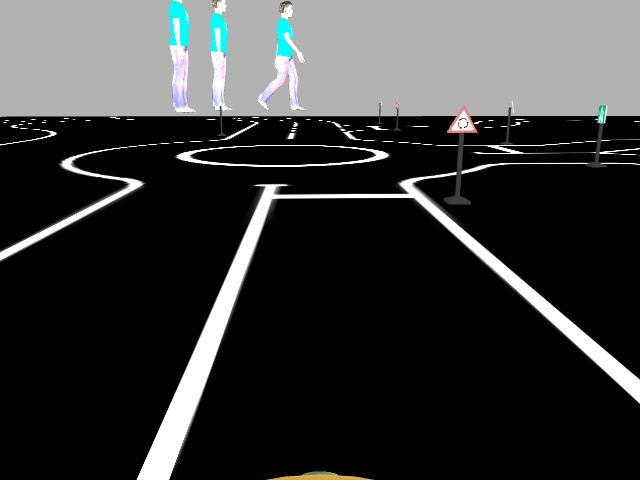Roundabout: (444, 105, 479, 137)
